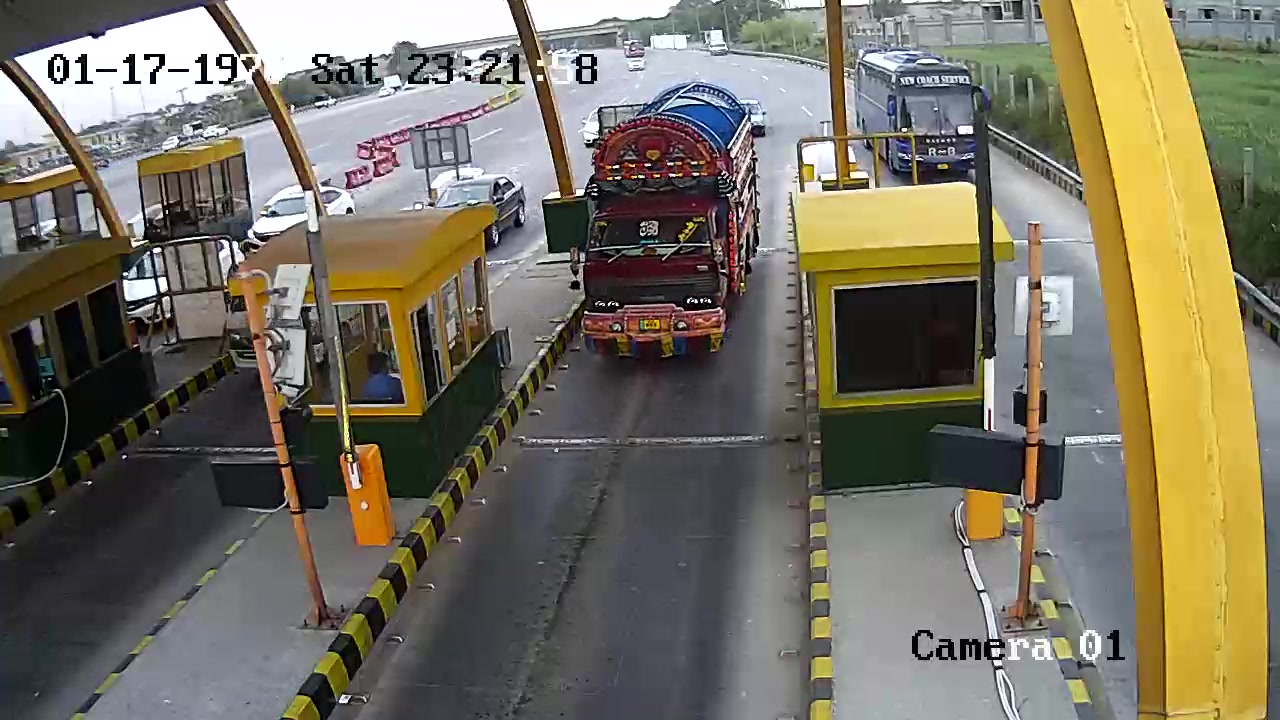F5: (577, 87, 765, 371)
